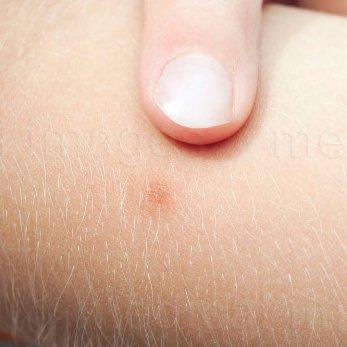Mosquito: (136, 172, 181, 221)
